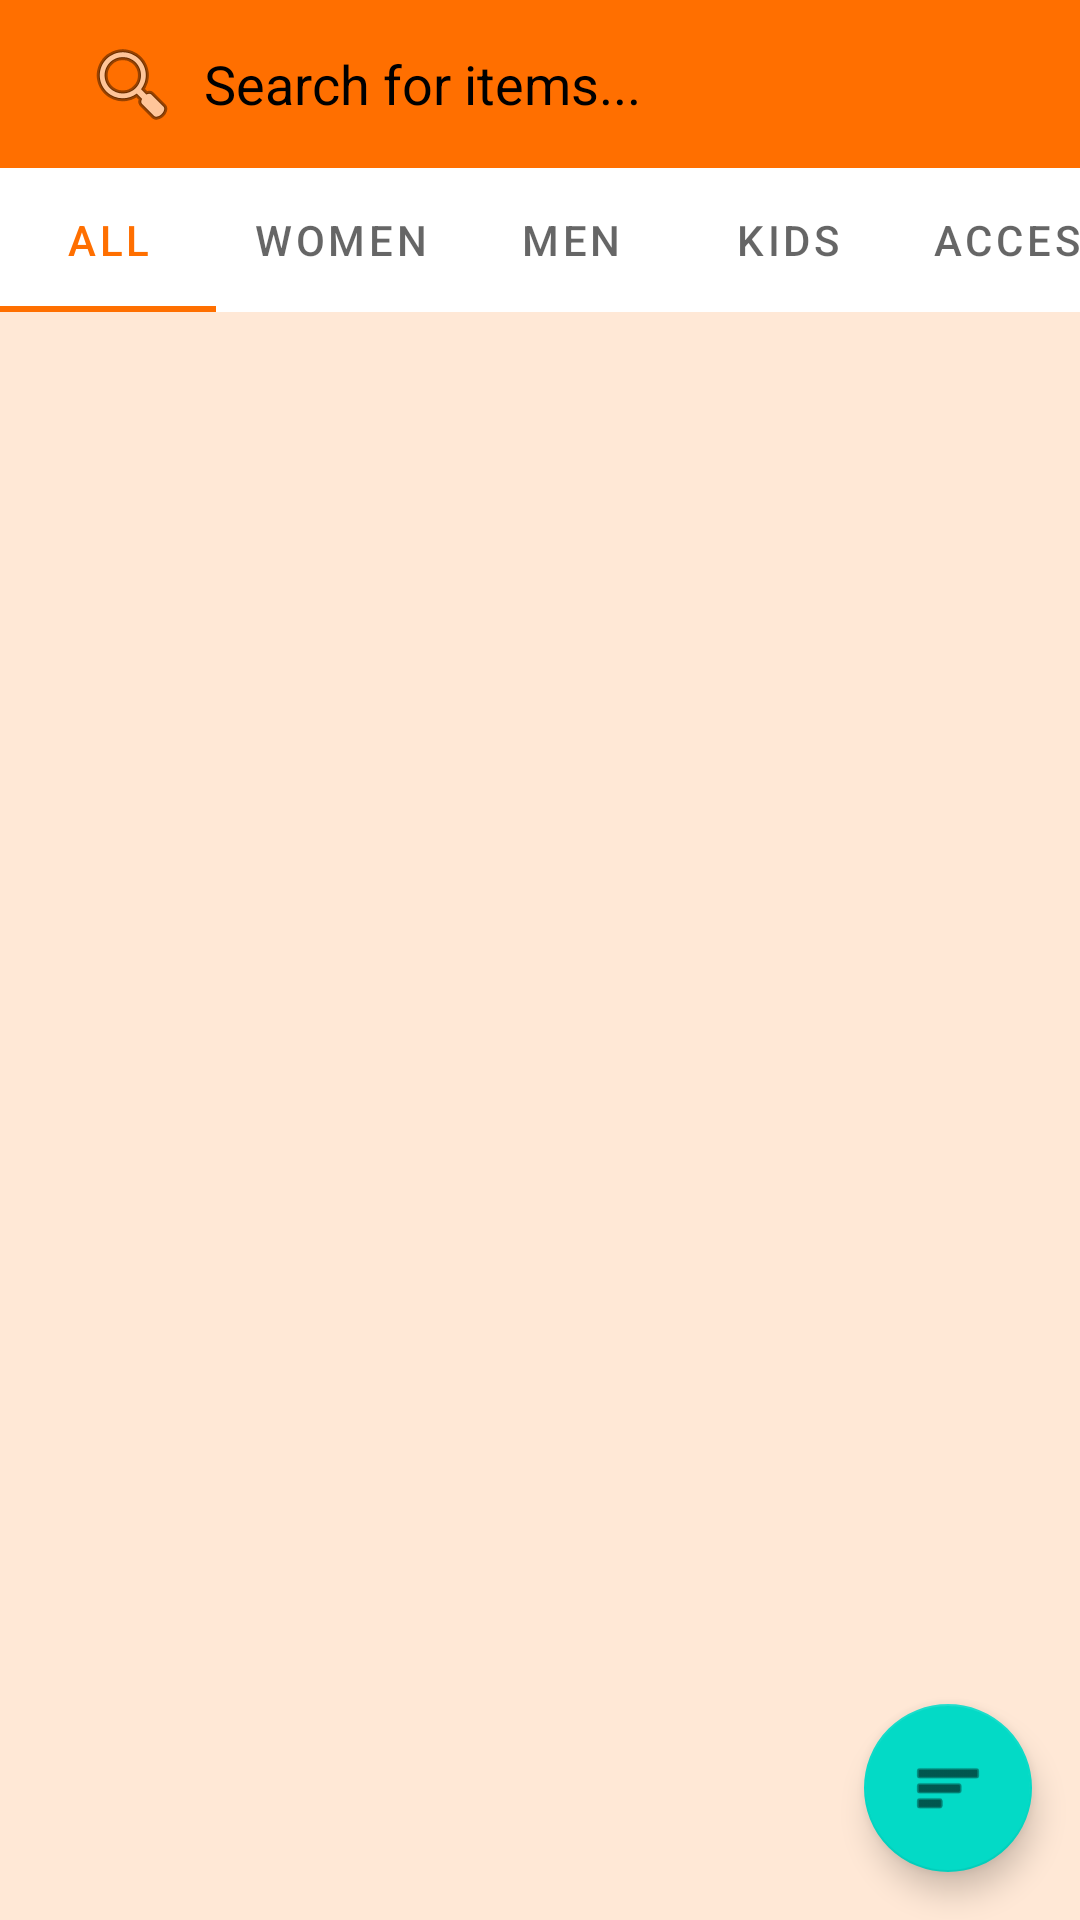

Named icons in this screenshot (1080px×1920px) and their centers, (x,y):
Filter search results: (948,1788)
